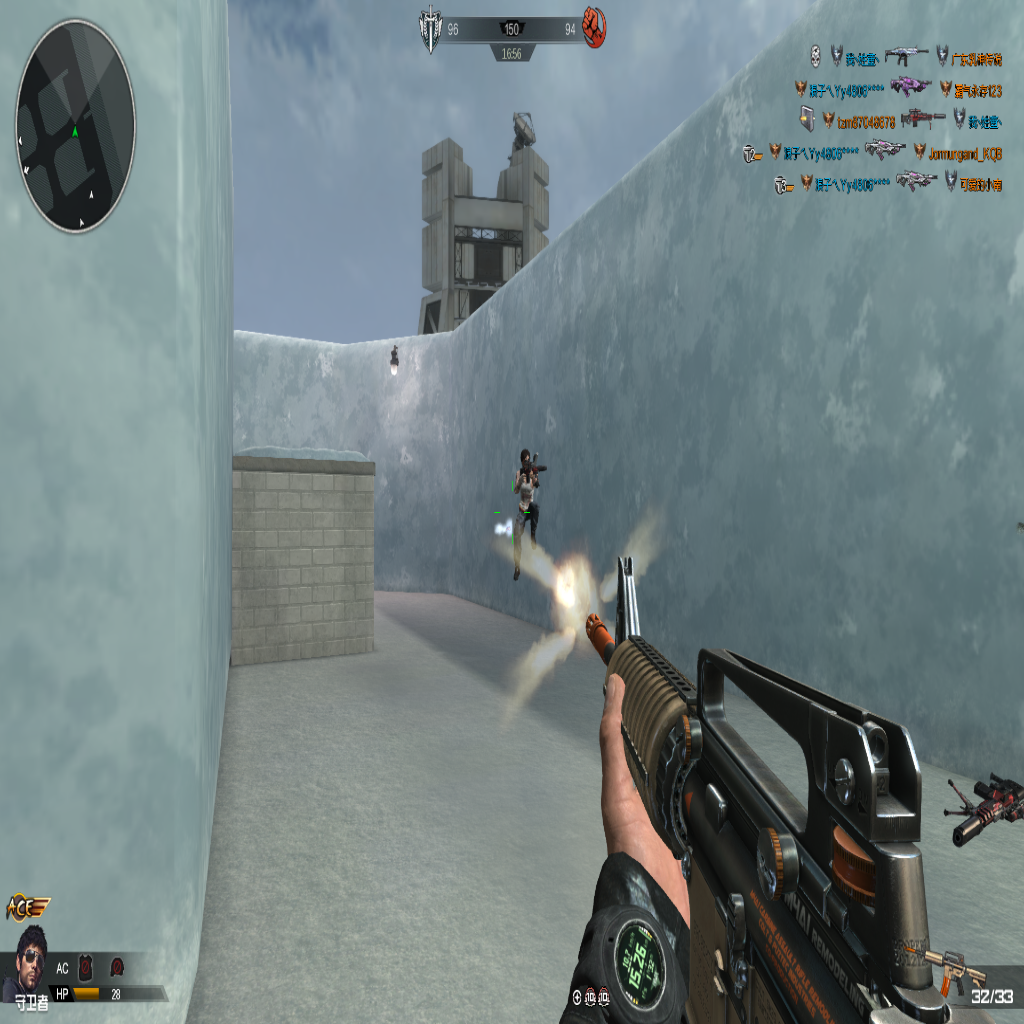tt: (509, 446, 544, 586)
